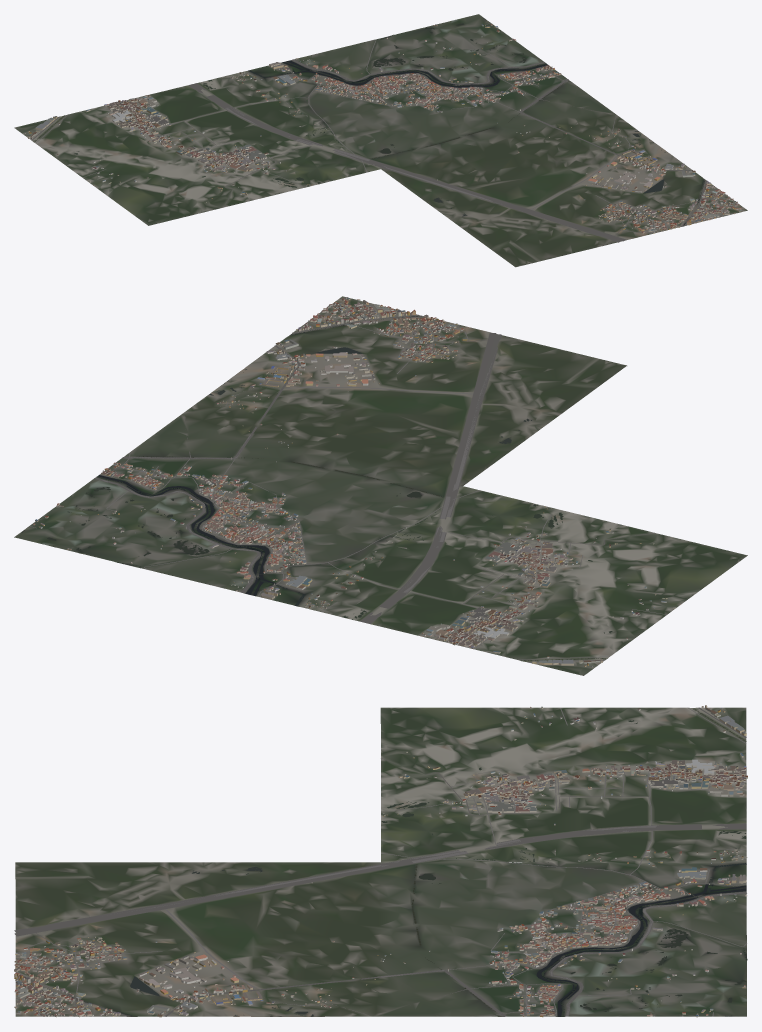
3 views of the same model, one above another, from view 1: azimuth 30°, elevation 25°; view 2: azimuth 150°, elevation 25°; view 3: azimuth 270°, elevation 25° (orthographic). The views are drawn at different scales.
Visible parts, largest first — view 1: ground, buildings, roads, water; view 2: ground, buildings, roads, water; view 3: ground, buildings, roads, water.
Boxes of the visible parts, bbox=[...] form: ground: bbox=[14, 14, 747, 267]; buildings: bbox=[24, 24, 743, 233]; roads: bbox=[31, 23, 725, 242]; water: bbox=[34, 18, 704, 226]; ground: bbox=[14, 296, 747, 675]; buildings: bbox=[33, 297, 680, 667]; roads: bbox=[29, 304, 666, 663]; water: bbox=[21, 315, 612, 661]; ground: bbox=[15, 707, 746, 1016]; buildings: bbox=[14, 705, 747, 1017]; roads: bbox=[14, 707, 746, 1016]; water: bbox=[19, 708, 747, 1016].
Size of the model in its own units: 2814 by 23.71 by 2814.
